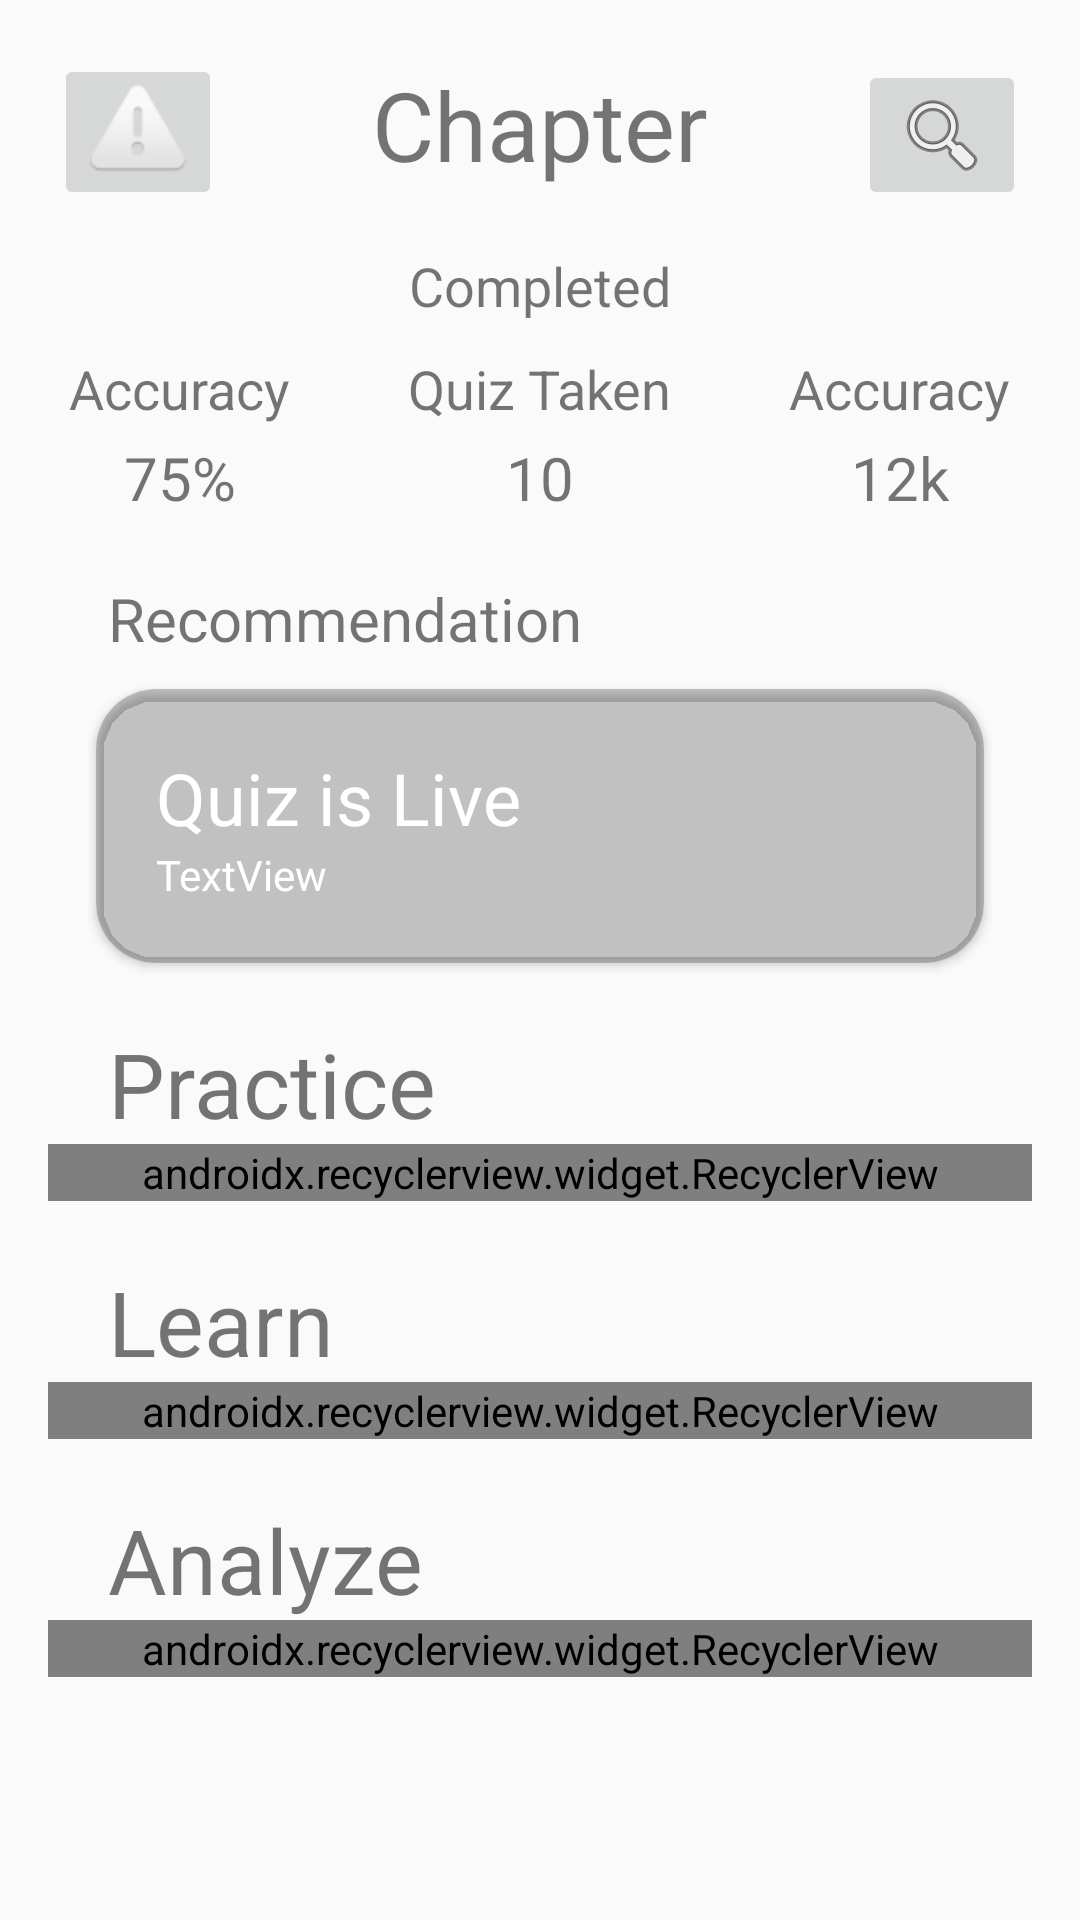

Icon click points for this 1080 × 1920 phone screenshot, format (x=x, y=y):
alert: (x=138, y=132)
search: (x=942, y=135)
